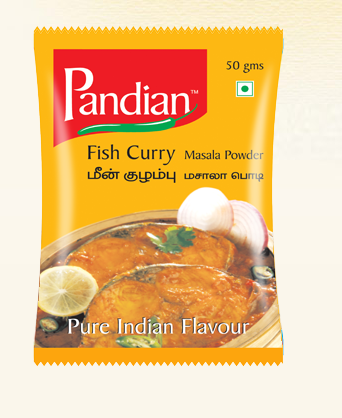VEG: (236, 79, 255, 99)
